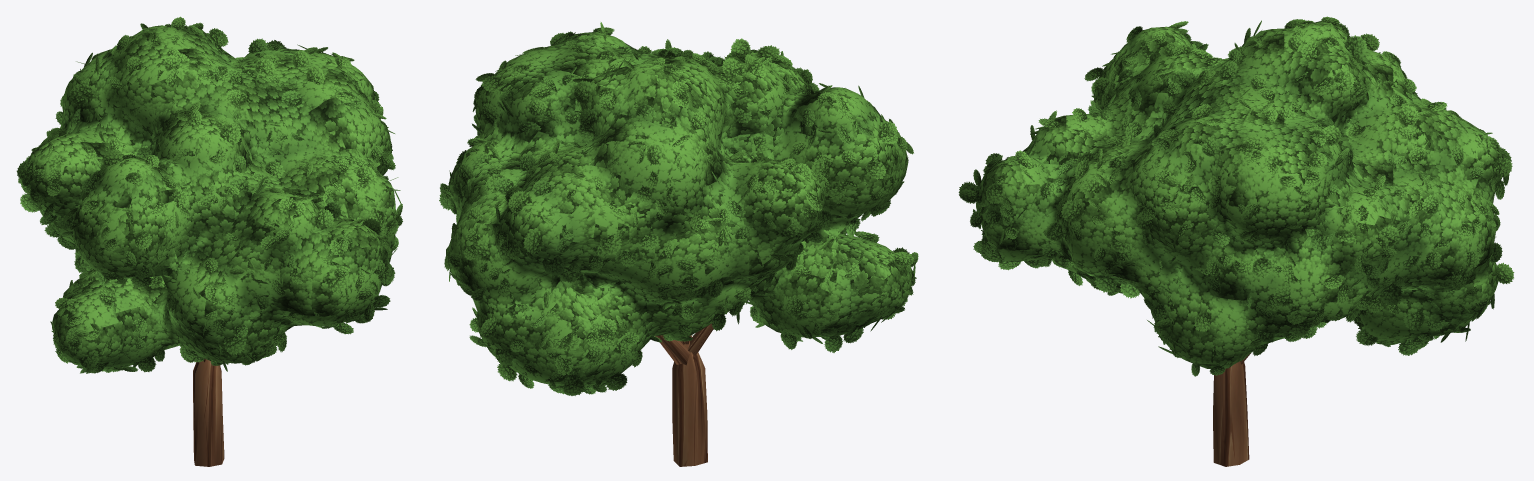
The model's file is bush2_v2.glb.
3 views of the same model, side by side, from view 1: azimuth 30°, elevation 25°; view 2: azimuth 150°, elevation 25°; view 3: azimuth 270°, elevation 25° (orthographic). The views are drawn at different scales.
Parts seen in each view (by area): view 1: bush2_v2_volume_LOD0, bush2_v2_leaves_LOD0, bush2_v2_trunk_LOD0; view 2: bush2_v2_volume_LOD0, bush2_v2_leaves_LOD0, bush2_v2_trunk_LOD0; view 3: bush2_v2_volume_LOD0, bush2_v2_leaves_LOD0, bush2_v2_trunk_LOD0.
Part boxes in pixels (x1=…): bush2_v2_volume_LOD0: x1=26, y1=25, x2=395, y2=369; bush2_v2_leaves_LOD0: x1=16, y1=16, x2=402, y2=373; bush2_v2_trunk_LOD0: x1=193, y1=358, x2=224, y2=466; bush2_v2_volume_LOD0: x1=446, y1=32, x2=911, y2=386; bush2_v2_leaves_LOD0: x1=439, y1=22, x2=918, y2=395; bush2_v2_trunk_LOD0: x1=655, y1=323, x2=713, y2=466; bush2_v2_volume_LOD0: x1=976, y1=21, x2=1501, y2=368; bush2_v2_leaves_LOD0: x1=958, y1=16, x2=1514, y2=376; bush2_v2_trunk_LOD0: x1=1213, y1=353, x2=1250, y2=466.
Size of what is drawn, in the model's own units: 1.29 by 1.39 by 1.64.
Materials: 3 (3 with a texture image).
